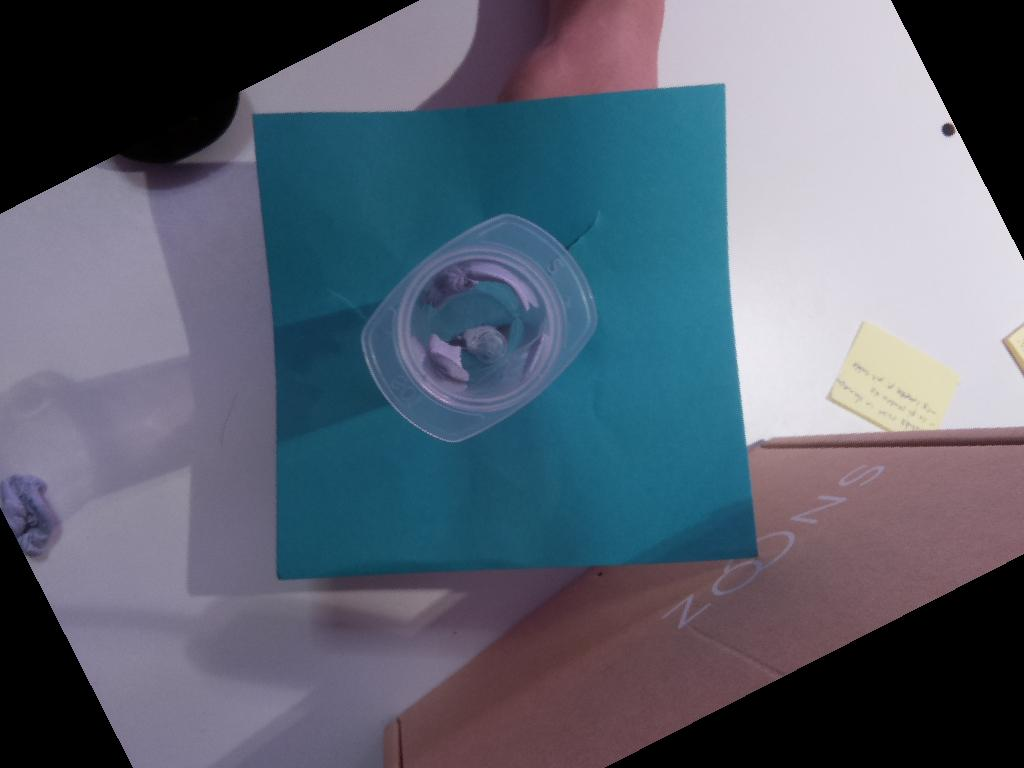dirty: (357, 211, 597, 445)
